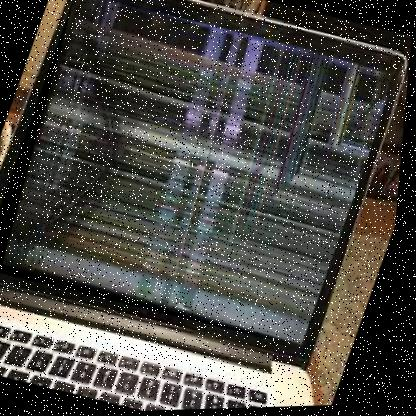lines: (0, 0, 406, 358)
